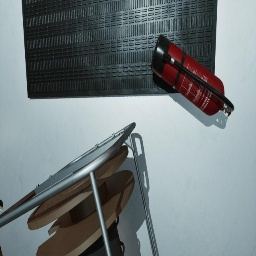FireExtinguisher ]: (151, 34, 234, 116)
